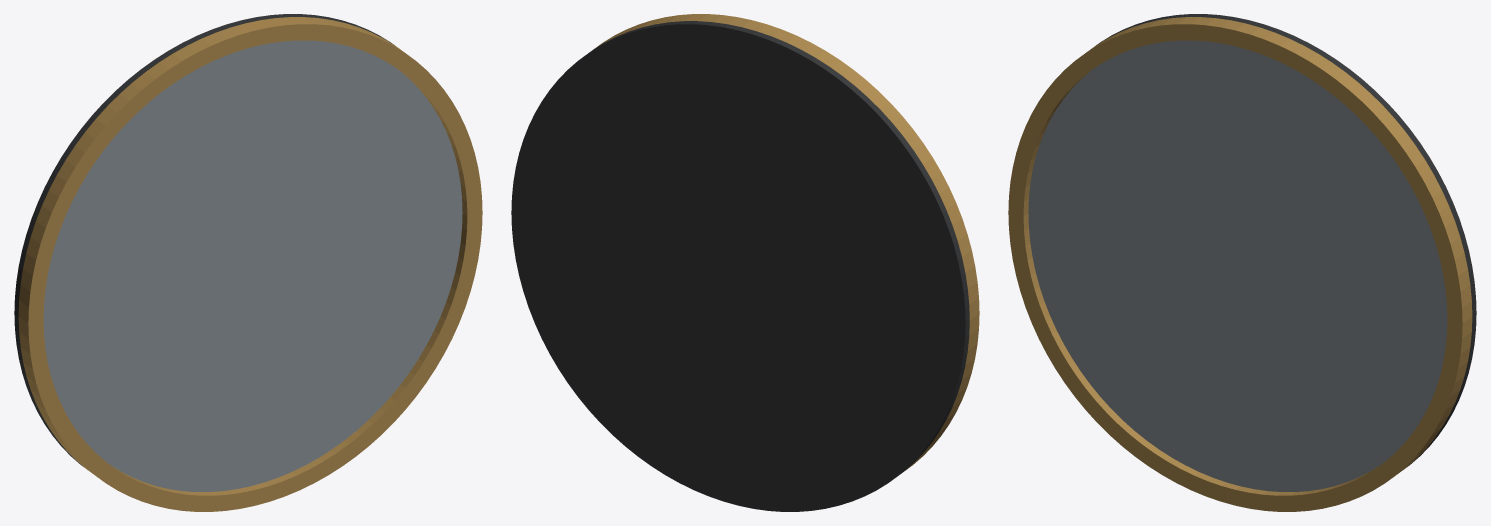
The model's file is variant-round.glb.
3 renders of one model, left to right at view 1: azimuth 30°, elevation 25°; view 2: azimuth 150°, elevation 25°; view 3: azimuth 330°, elevation 25°, orthographic.
Parts seen in each view (by area): view 1: mirror-surface, mirror-frame, mirror-back; view 2: mirror-back, mirror-frame; view 3: mirror-surface, mirror-frame, mirror-back.
Part boxes in pixels (x1,y1,x2,y2): mirror-surface: [43, 40, 462, 491]; mirror-frame: [18, 17, 482, 511]; mirror-back: [14, 14, 393, 466]; mirror-back: [511, 21, 969, 511]; mirror-frame: [594, 14, 979, 470]; mirror-surface: [1028, 40, 1447, 491]; mirror-frame: [1008, 17, 1472, 511]; mirror-back: [1097, 14, 1476, 466].
Size of the model in its own units: 0.75 by 0.75 by 0.04.
